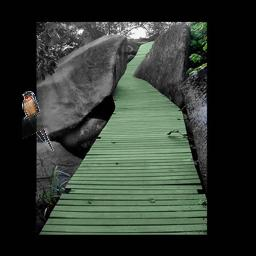Swallow: (22, 91, 54, 152)
